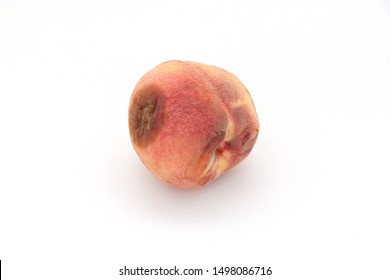peach: (129, 60, 260, 192)
rotten: (130, 85, 164, 149)
